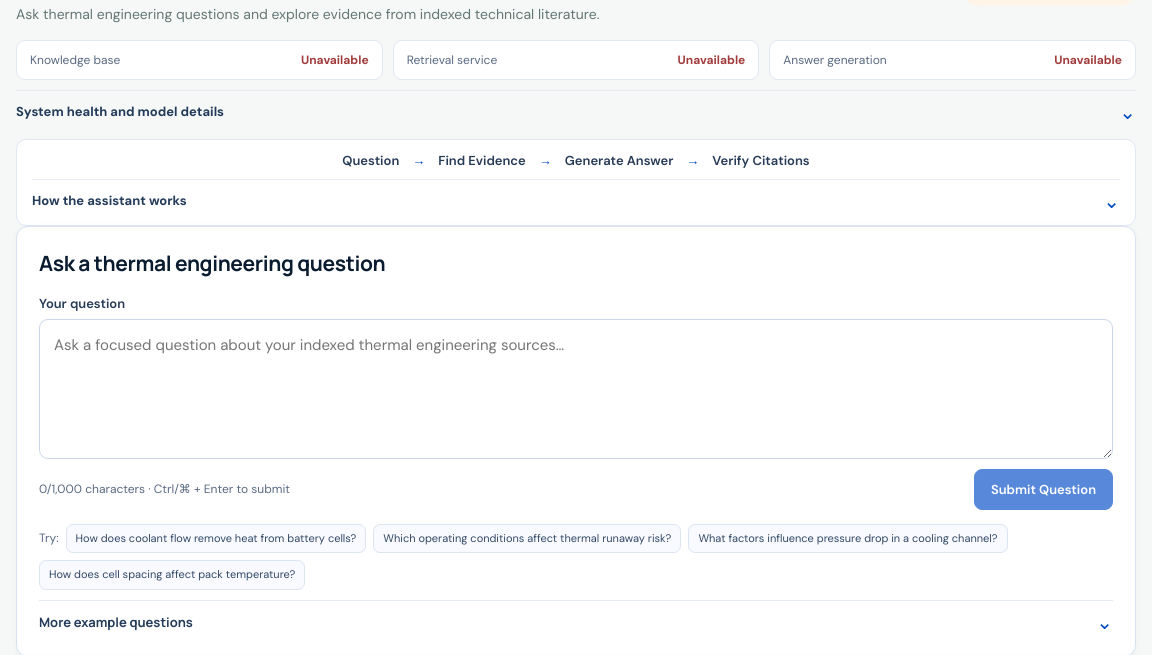
Test: ThermalKnowledgeAssistant (mocked API unit tests) › reports retrieval failure and supports an empty corpus state
The width and height of the screenshot is (1152, 655).
Click the button "System health and model details ⌄".
click(120, 112)  # box [16,91,1136,124]
(page scrolled)
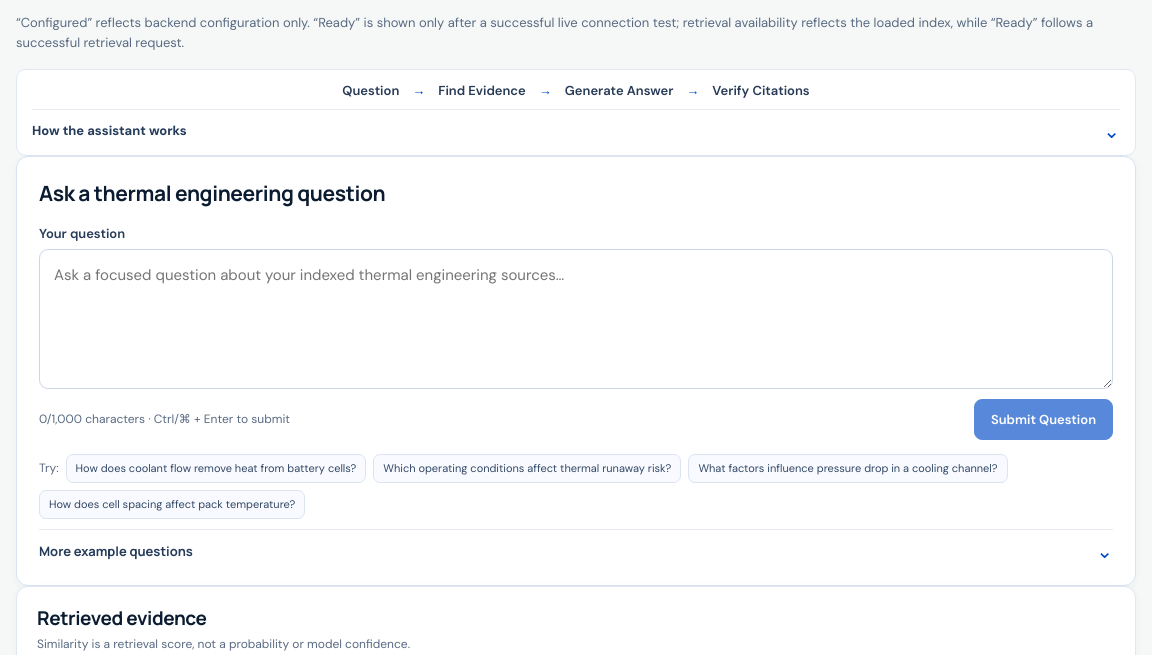
Replace the text in the text box labelled "Your question" with "Question" at {"x": 576, "y": 318}, box [39,248,1113,388]
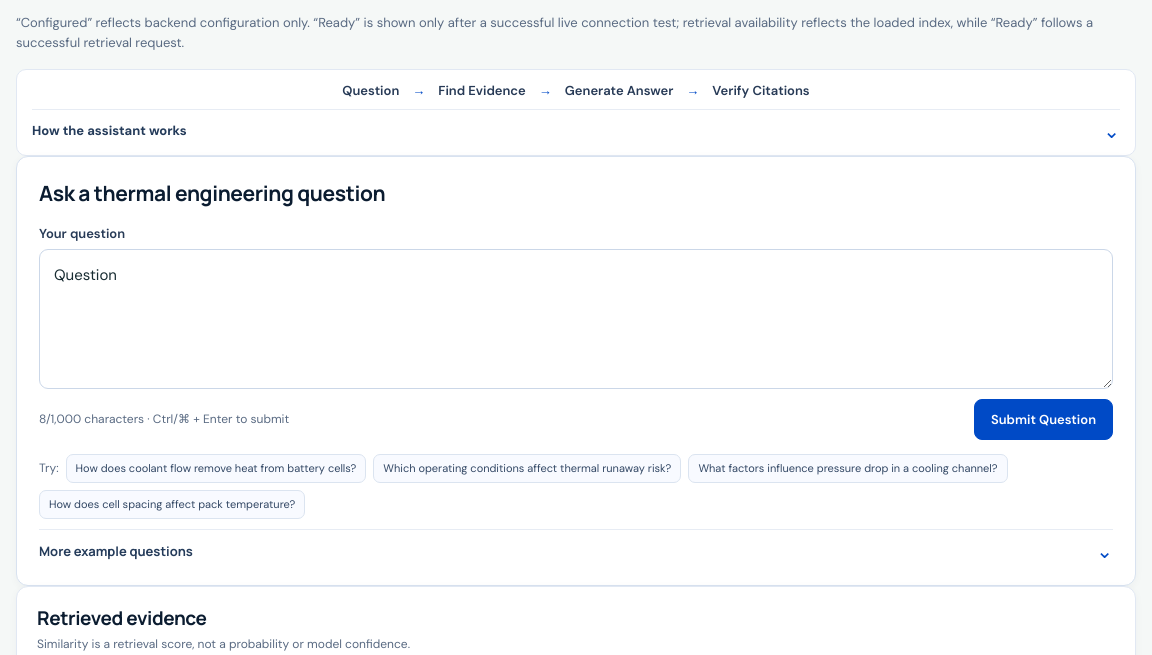
Click the button "Submit Question".
click(1044, 419)  # box [974,398,1113,440]
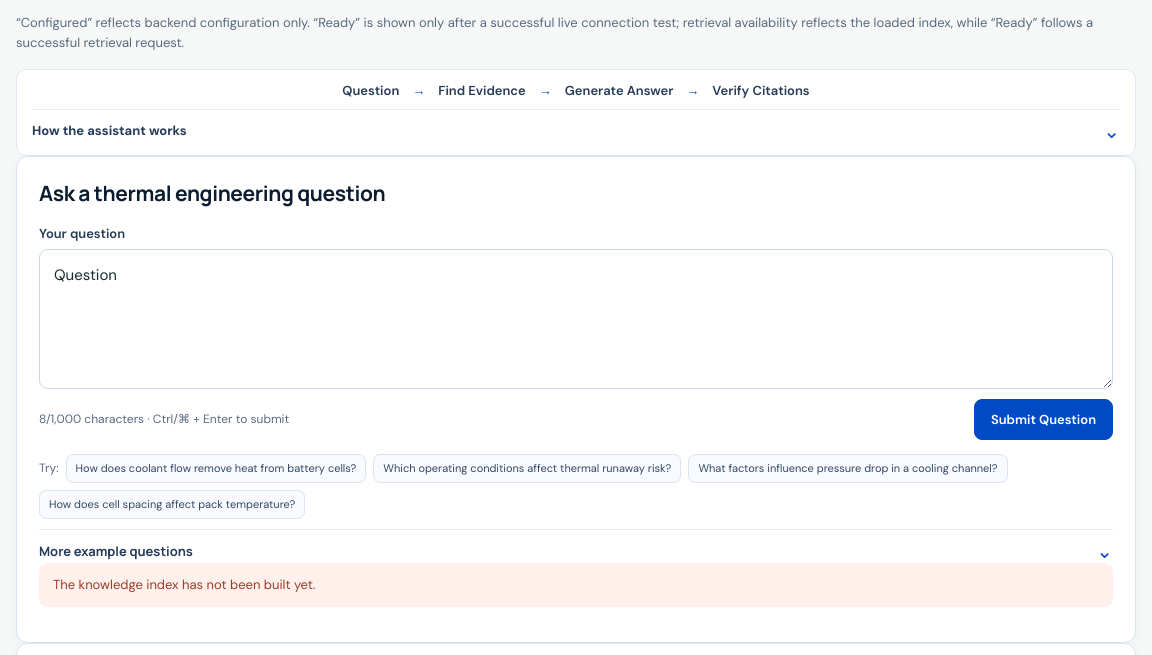
Check: the message reads "The knowledge index has not been built yet.", box [53,576,315,593]
